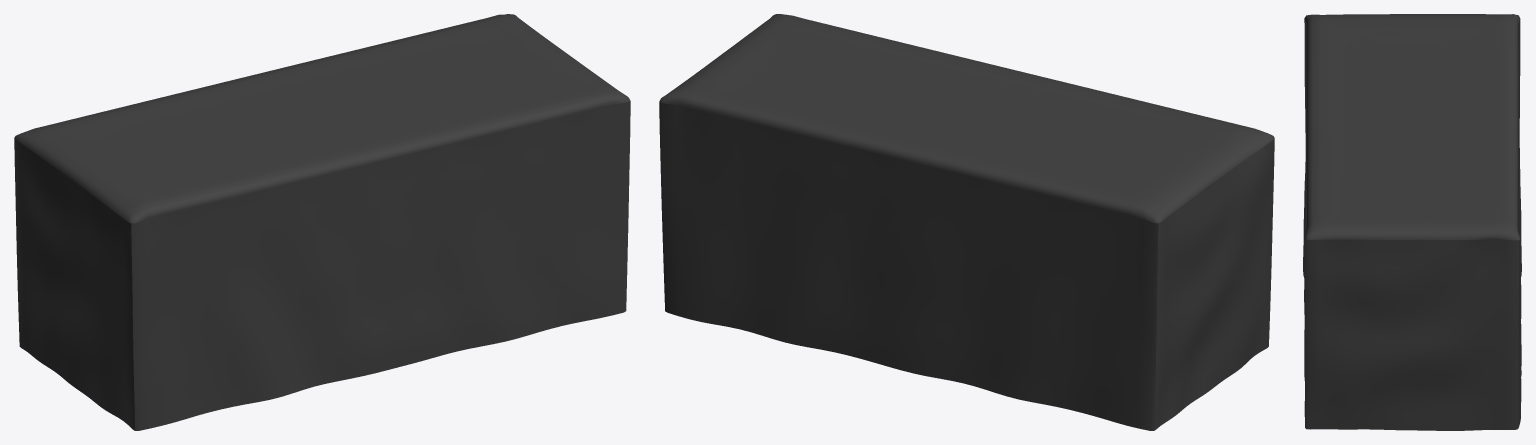
File: fitted-6ft-4.glb
The picture shows the model from 3 angles, left to right: view 1: azimuth 30°, elevation 25°; view 2: azimuth 150°, elevation 25°; view 3: azimuth 270°, elevation 25°; orthographic projection. The views are drawn at different scales.
Parts seen in each view (by area): view 1: geometry_0; view 2: geometry_0; view 3: geometry_0.
Part boxes in pixels (x1,y1,x2,y2): geometry_0: [14, 14, 630, 430]; geometry_0: [659, 14, 1274, 430]; geometry_0: [1303, 14, 1521, 430].
Size of the model in its own units: 1.85 by 0.7684 by 0.7613.
Materials: 1 (1 with a texture image).
